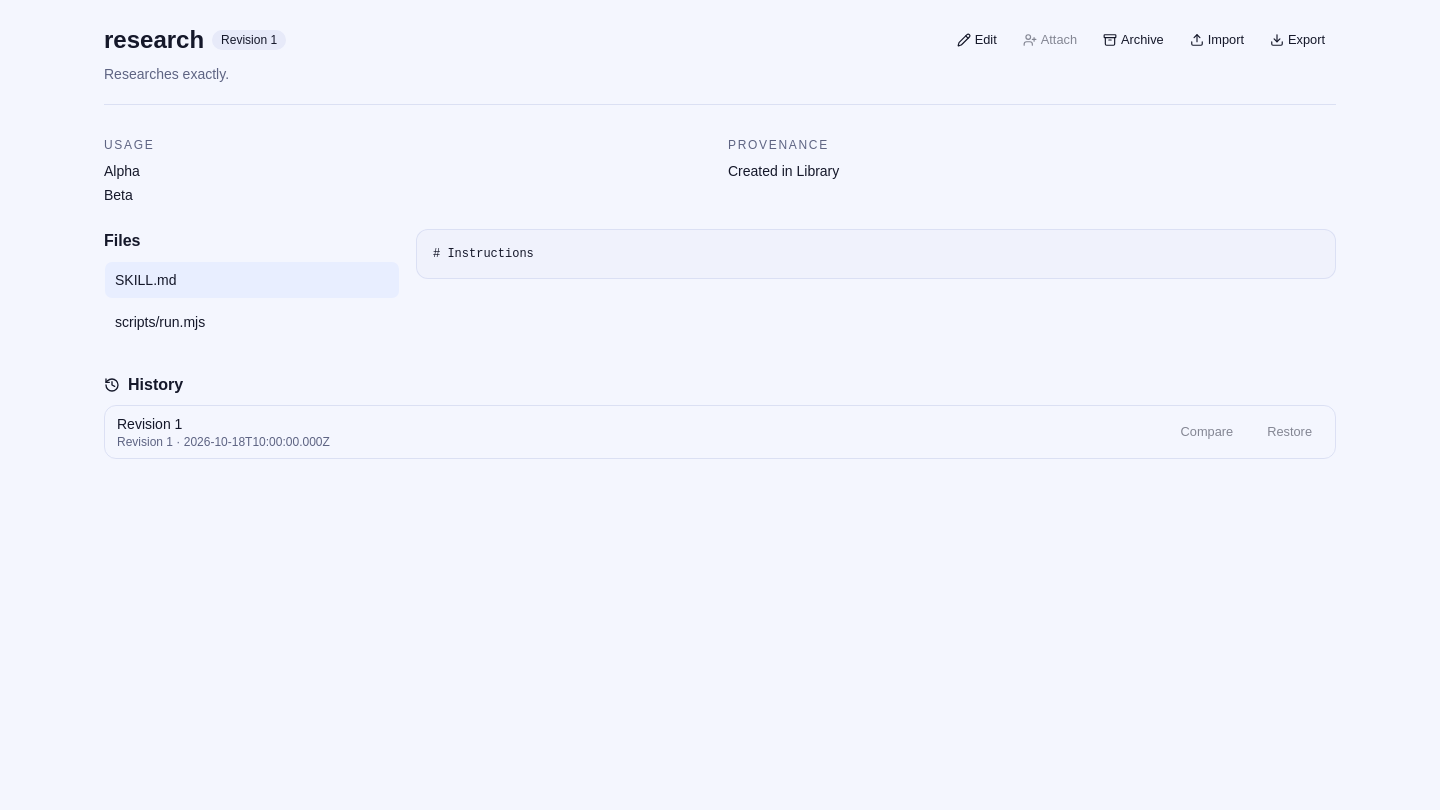
Test: publishes a staged script edit and restores it as a new revision without moving other Agent pins
The width and height of the screenshot is (1440, 810).
Click the button "scripts/run.mjs" at (160, 322), box [104,303,400,341]
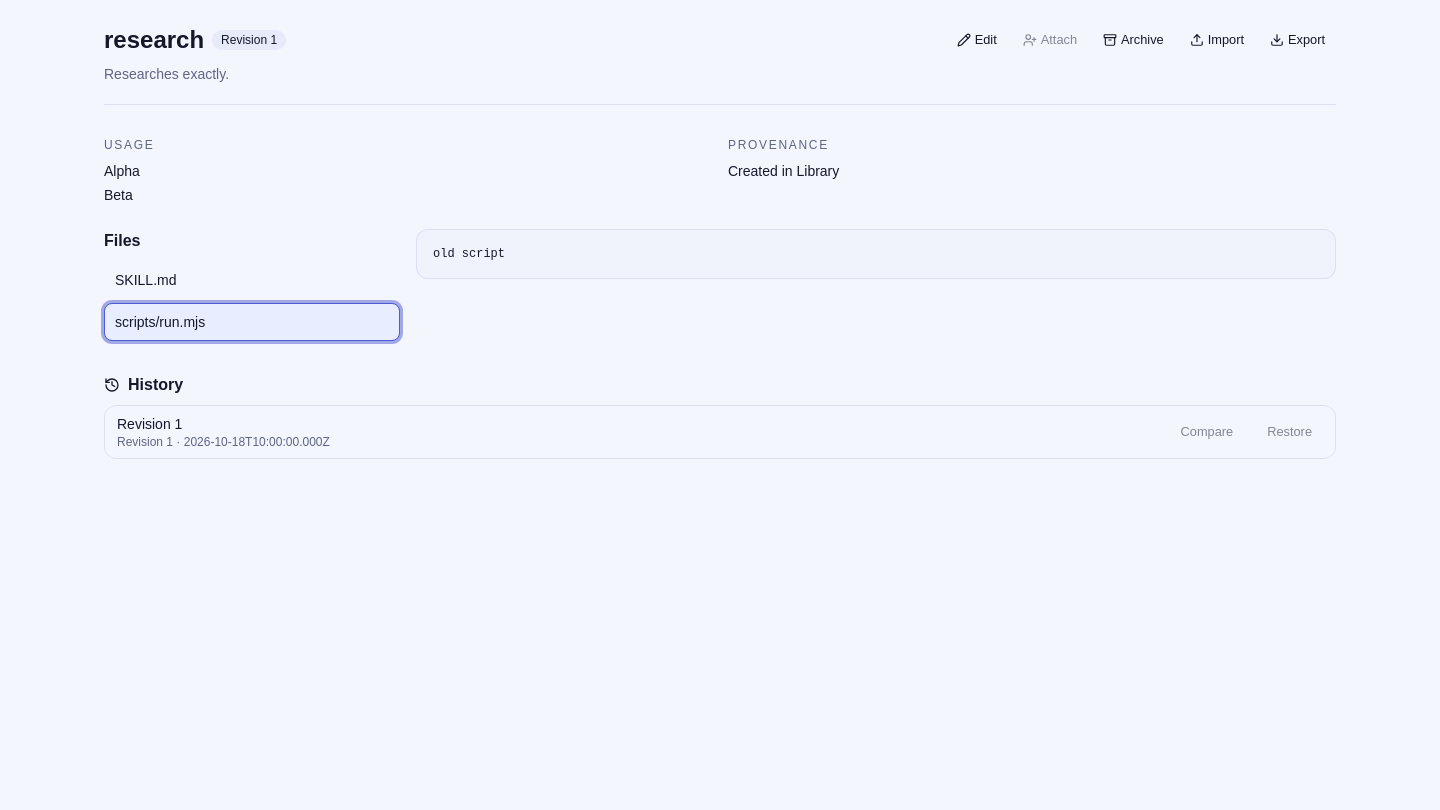
Now the text "old script" is shown, box [416,229,1336,279]
Click the button "Edit" at (977, 40), box [946,26,1008,54]
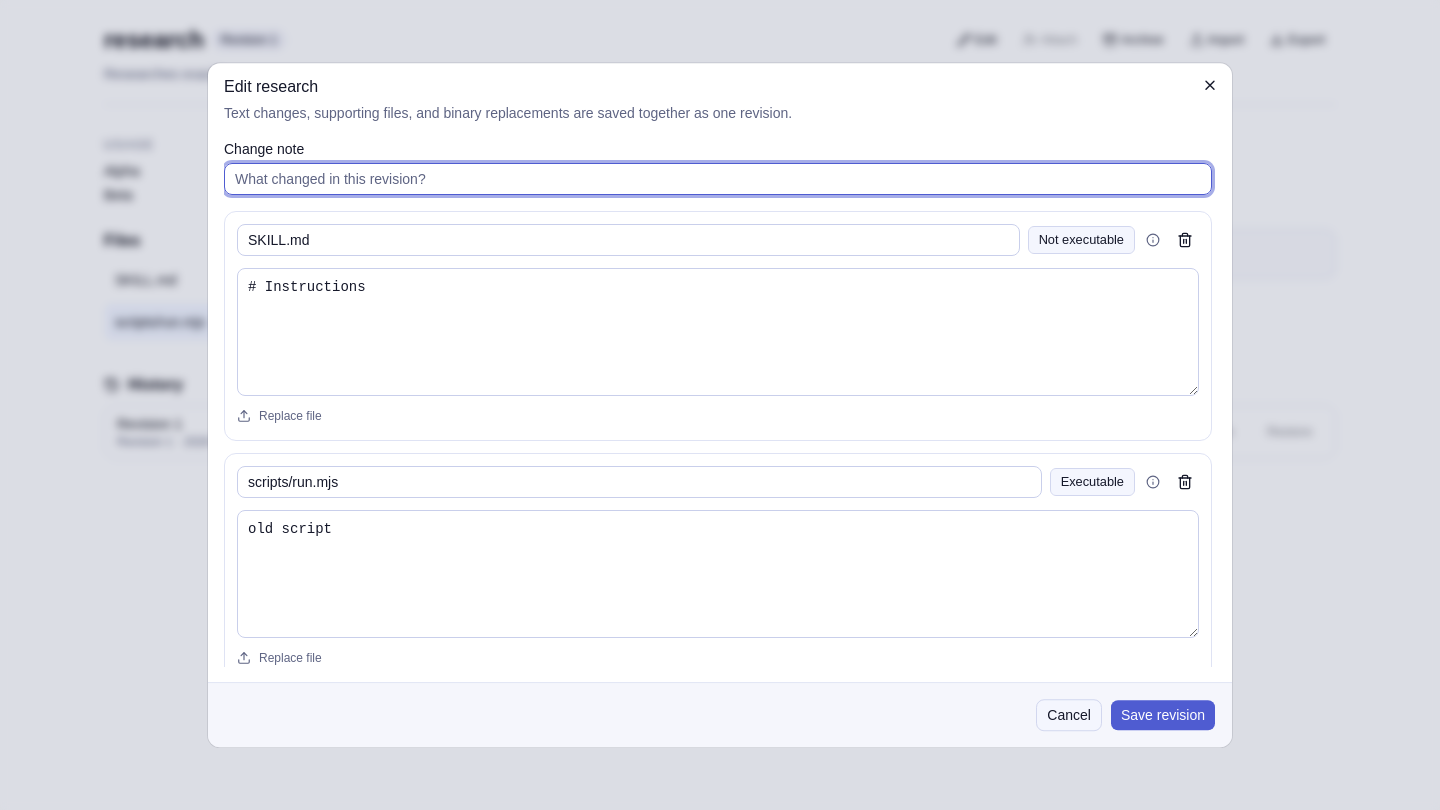
Replace the text in the text box named "Contents for file 2" with "new script" at (718, 574), box [237,510,1199,638]
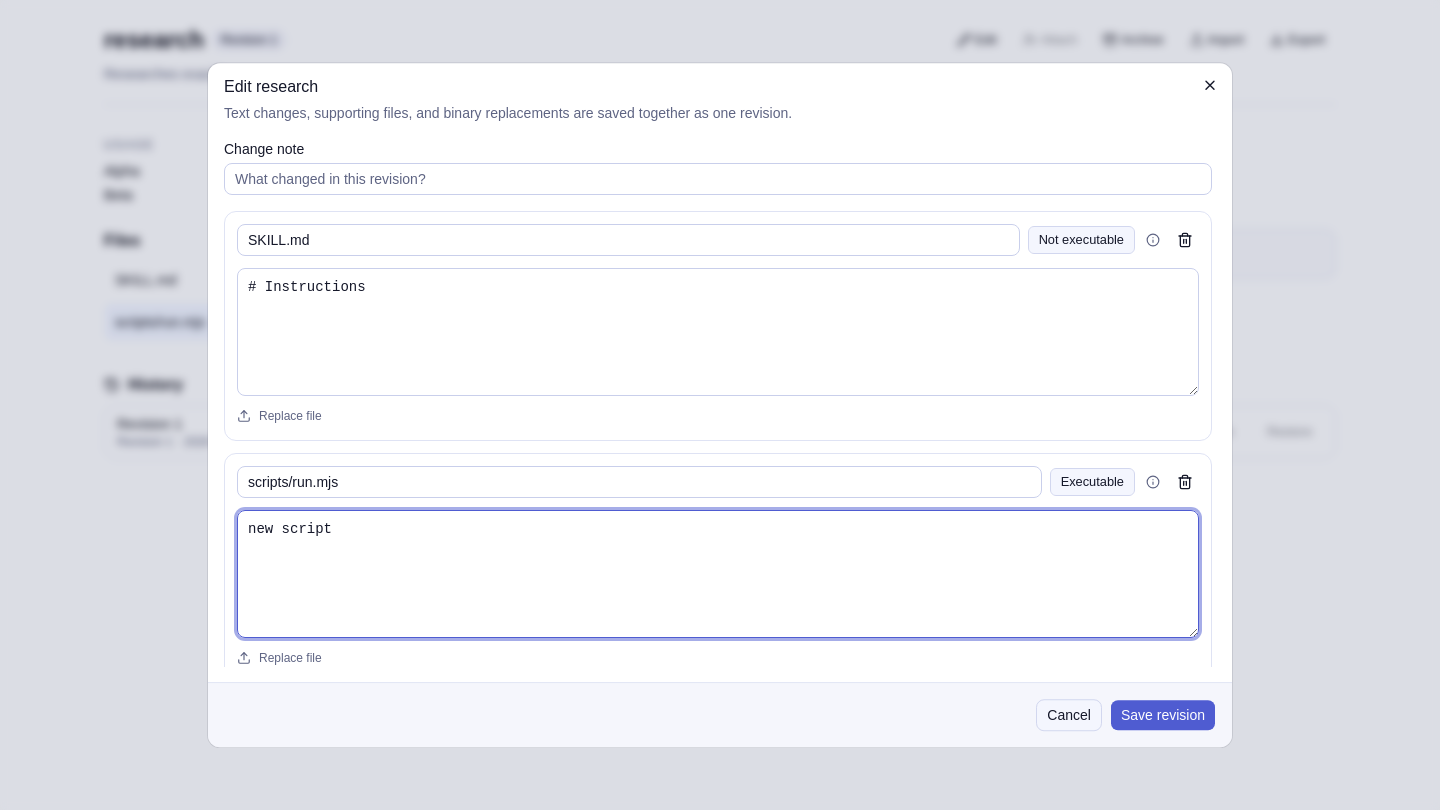
Type "Update only the script" into the field labelled "Change note" at (718, 179), box [224,163,1212,195]
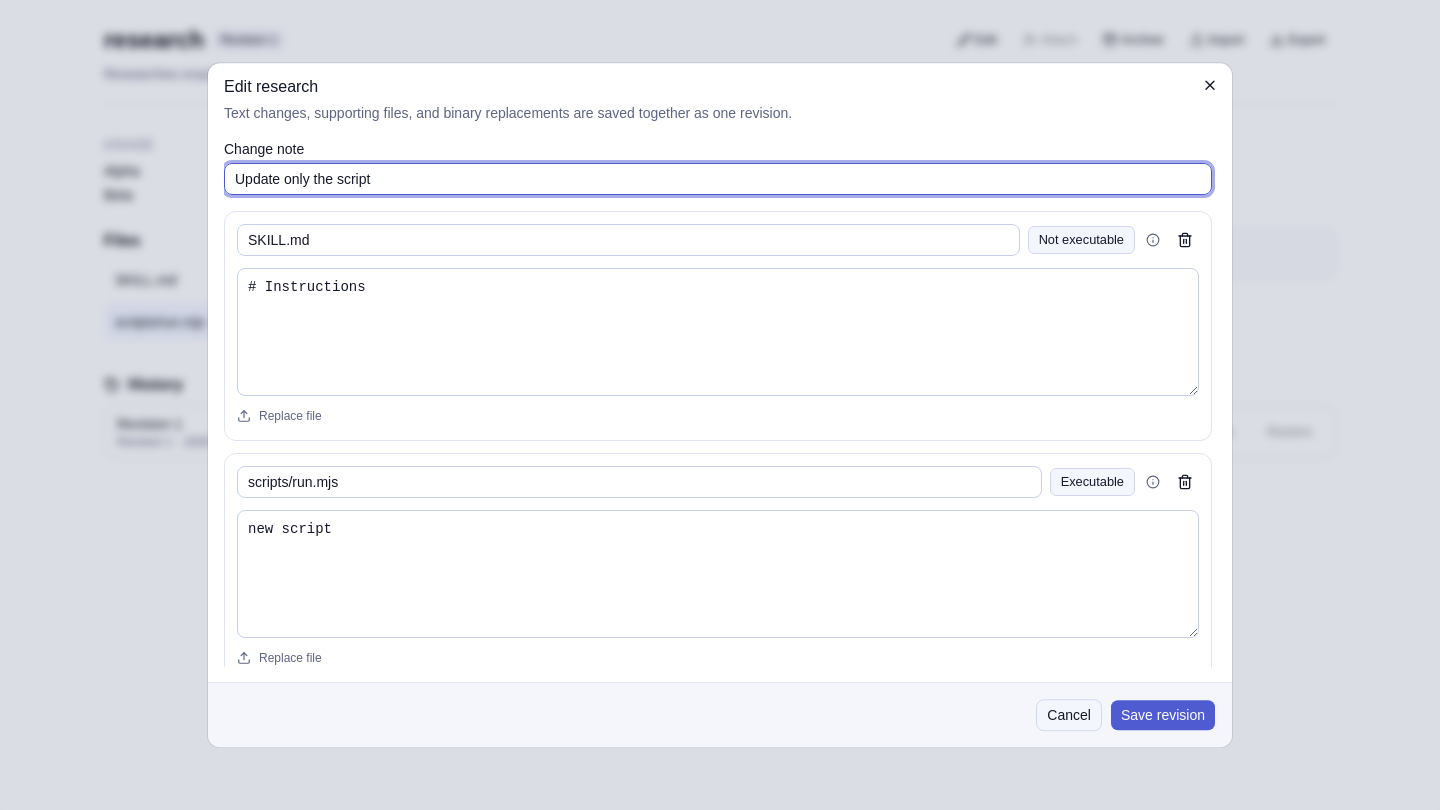
Click the button "Save revision" at (1163, 715), box [1110,699,1216,731]
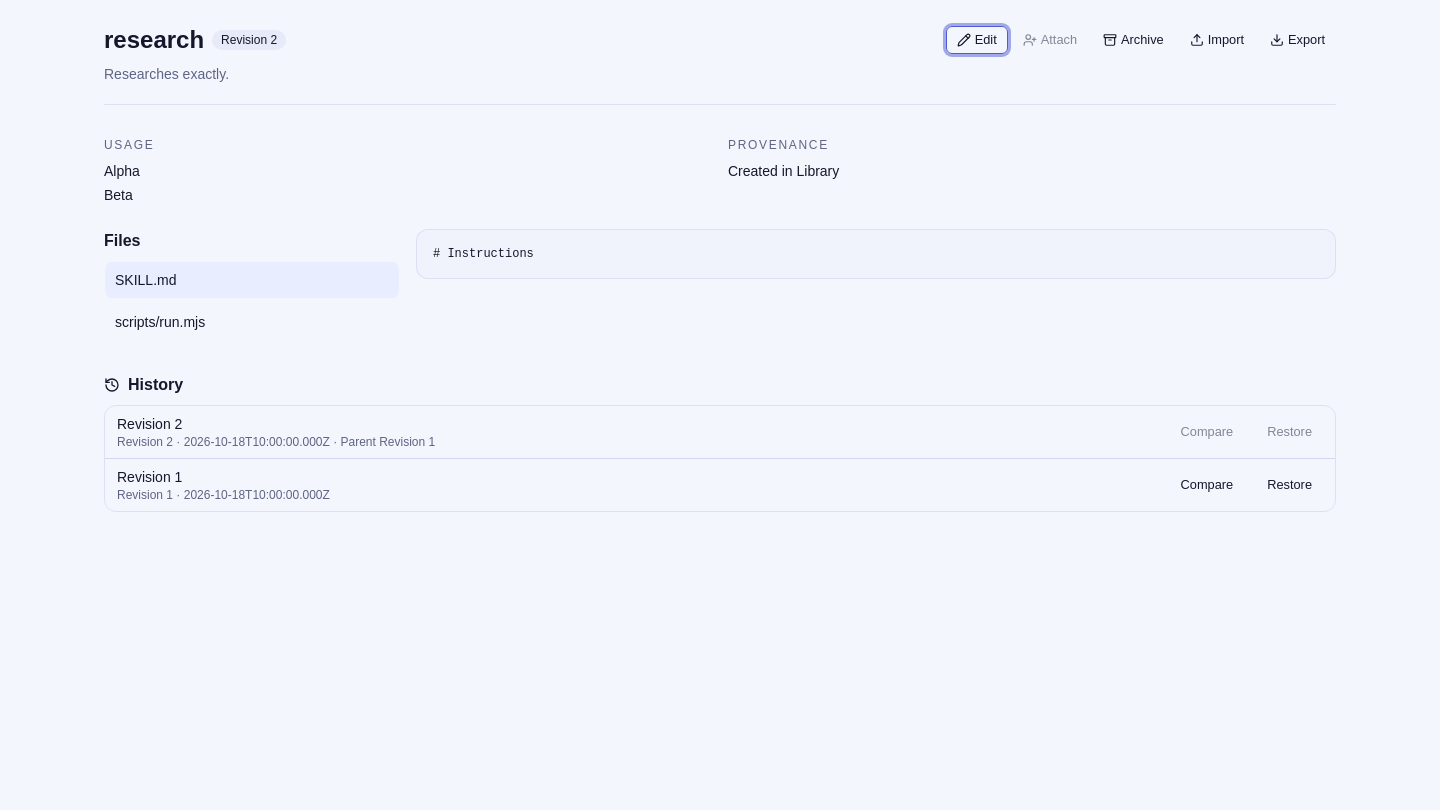
Now the element named "Revision 2 actions" is shown, box [105,406,1335,459]
Click the 2nd button "Restore" at (1290, 485), box [1256,471,1323,499]
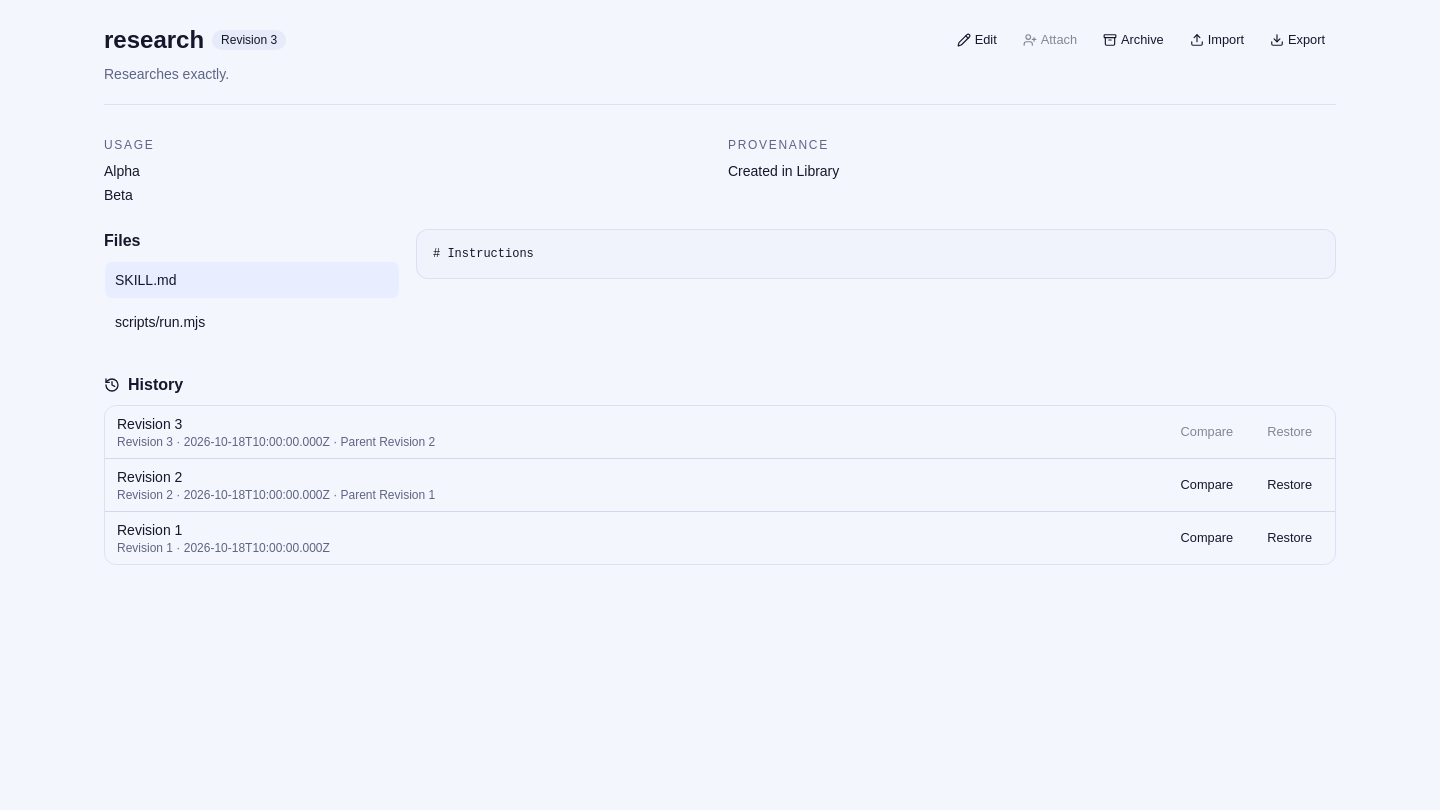
Now the element named "Revision 3 actions" is shown, box [105,406,1335,459]
